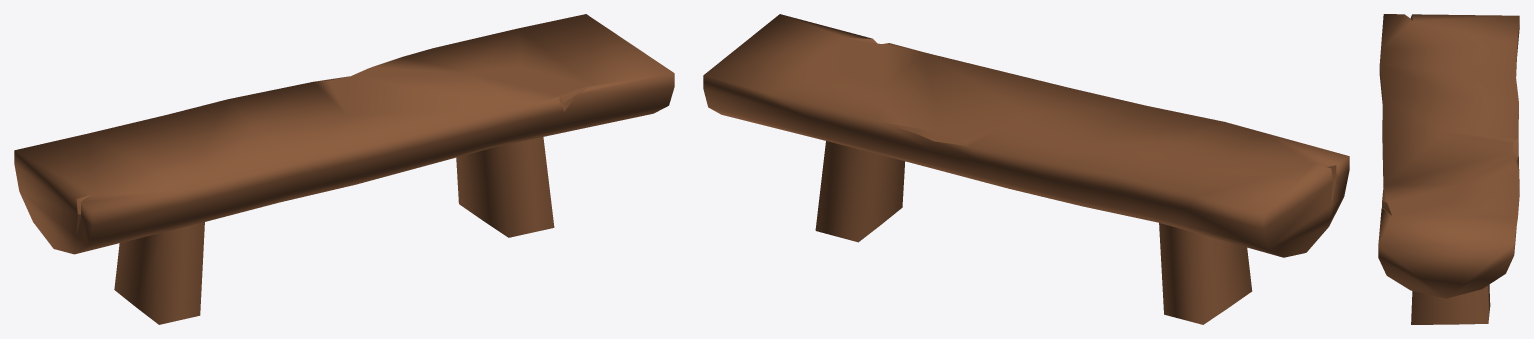
File: Bench.fbx
3 renders of one model, left to right at view 1: azimuth 30°, elevation 25°; view 2: azimuth 150°, elevation 25°; view 3: azimuth 270°, elevation 25°, orthographic. The views are drawn at different scales.
Parts seen in each view (by area): view 1: Bench; view 2: Bench; view 3: Bench.
Part boxes in pixels (x1,y1,x2,y2): Bench: (14,14,674,324); Bench: (703,14,1349,324); Bench: (1378,14,1519,324).
Bounding box in the file's own units: 403 × 97.83 × 104.
